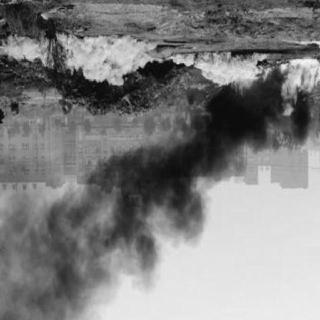Fire: (2, 187, 112, 319), (114, 151, 194, 259), (197, 105, 269, 187), (275, 55, 319, 117), (229, 59, 270, 97)
